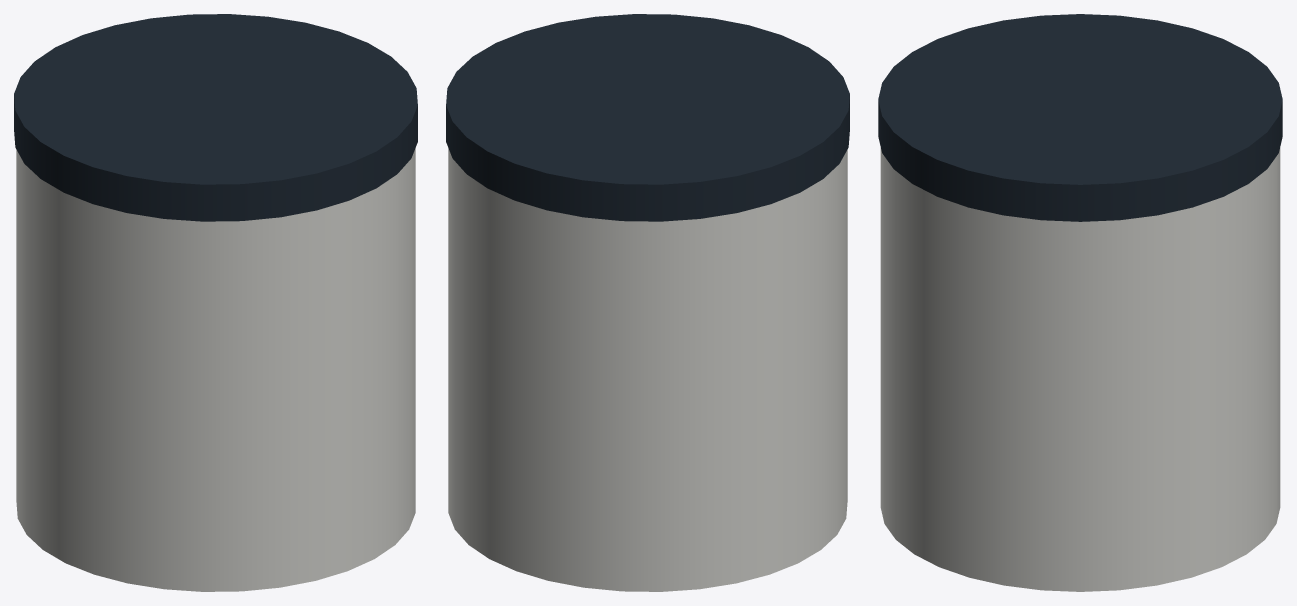
File: dragon-stage-1.glb
The picture shows the model from 3 angles, left to right: view 1: azimuth 30°, elevation 25°; view 2: azimuth 150°, elevation 25°; view 3: azimuth 270°, elevation 25°; orthographic projection.
Visible parts, largest first — view 1: body-0, interstage-0; view 2: body-0, interstage-0; view 3: body-0, interstage-0.
Boxes of the visible parts, left/top/right/bottom form: body-0: left=16, top=148, right=415, bottom=591; interstage-0: left=14, top=14, right=417, bottom=221; body-0: left=448, top=148, right=847, bottom=591; interstage-0: left=446, top=14, right=849, bottom=221; body-0: left=880, top=147, right=1280, bottom=591; interstage-0: left=878, top=14, right=1282, bottom=221.
Bounding box in the file's own units: 4.05 × 4.81 × 4.05.
